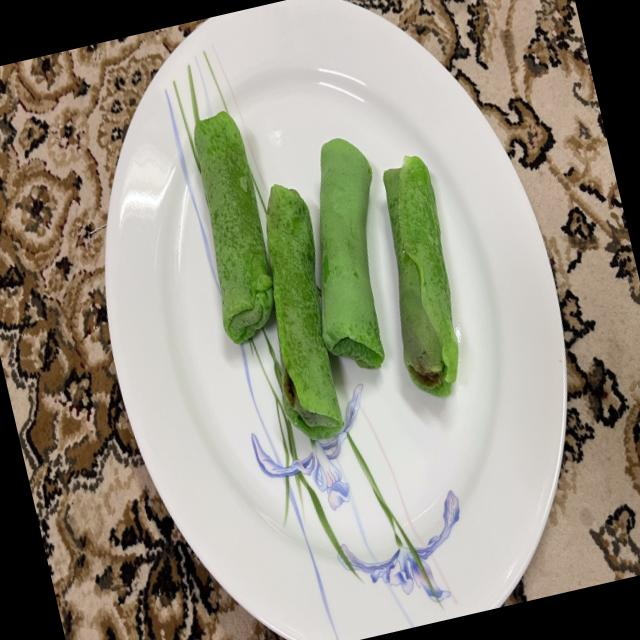Kuih-Ketayap: (266, 184, 343, 440), (194, 111, 273, 344), (383, 155, 458, 397), (319, 137, 384, 368)
